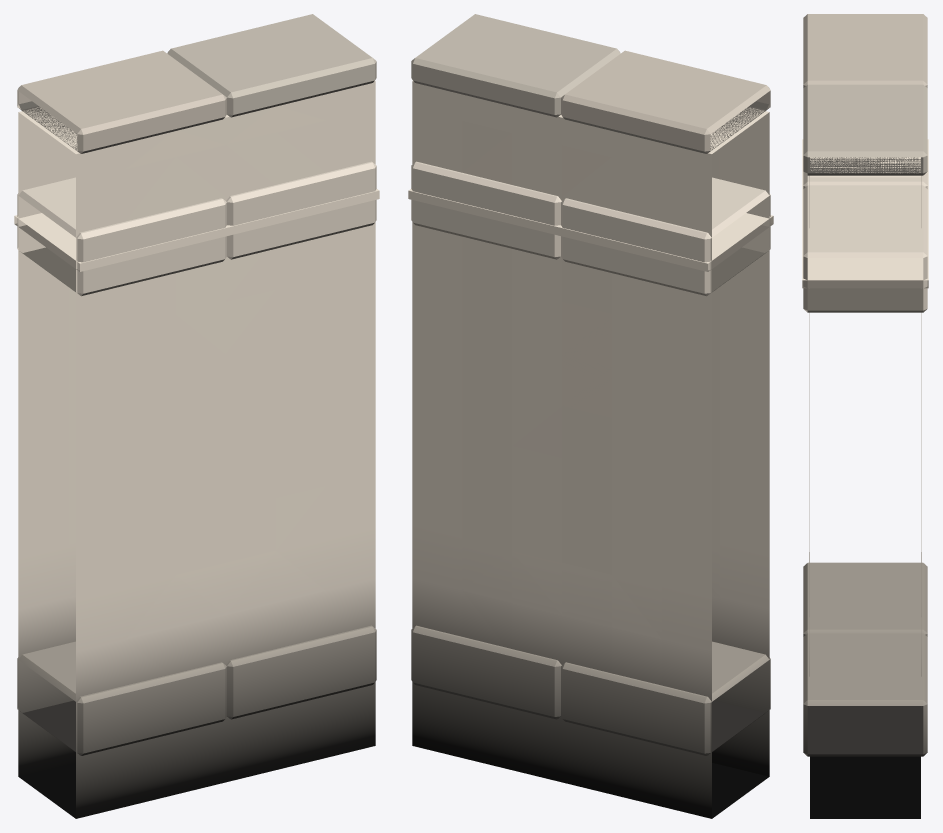
Rendered from SM_VKI_Wall_Dwarf_Plain_150A_Full.fbx.
3 renders of one model, left to right at view 1: azimuth 30°, elevation 25°; view 2: azimuth 150°, elevation 25°; view 3: azimuth 270°, elevation 25°, orthographic. The views are drawn at different scales.
Parts seen in each view (by area): view 1: SM_VKI_Wall_Dwarf_Plain_150A_Full.001; view 2: SM_VKI_Wall_Dwarf_Plain_150A_Full.001; view 3: SM_VKI_Wall_Dwarf_Plain_150A_Full.001.
Part boxes in pixels (bbox=[...]): SM_VKI_Wall_Dwarf_Plain_150A_Full.001: bbox=[14, 14, 379, 818]; SM_VKI_Wall_Dwarf_Plain_150A_Full.001: bbox=[408, 14, 773, 818]; SM_VKI_Wall_Dwarf_Plain_150A_Full.001: bbox=[802, 14, 928, 818].
Size of the model in its own units: 1.5 by 3.3 by 0.568.
